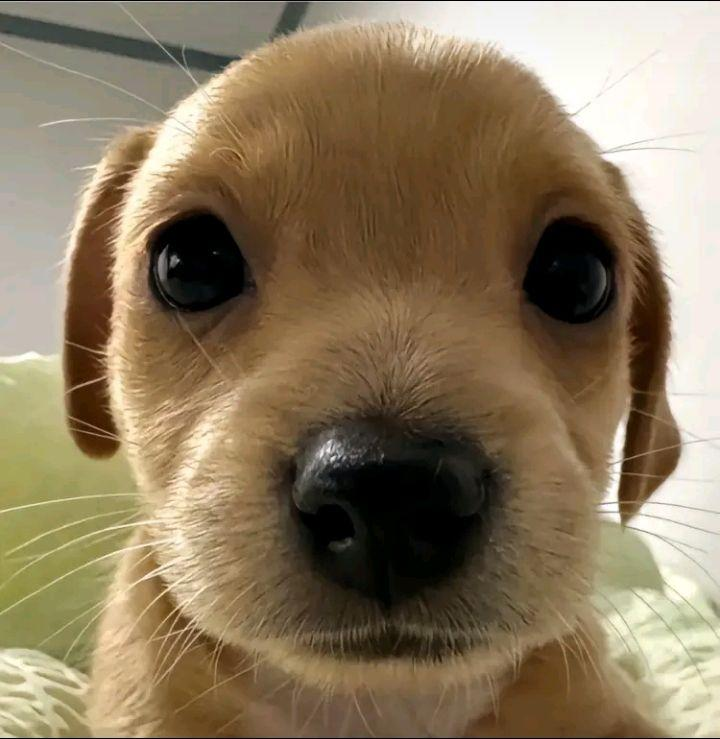puppy-dog: (61, 18, 686, 739)
